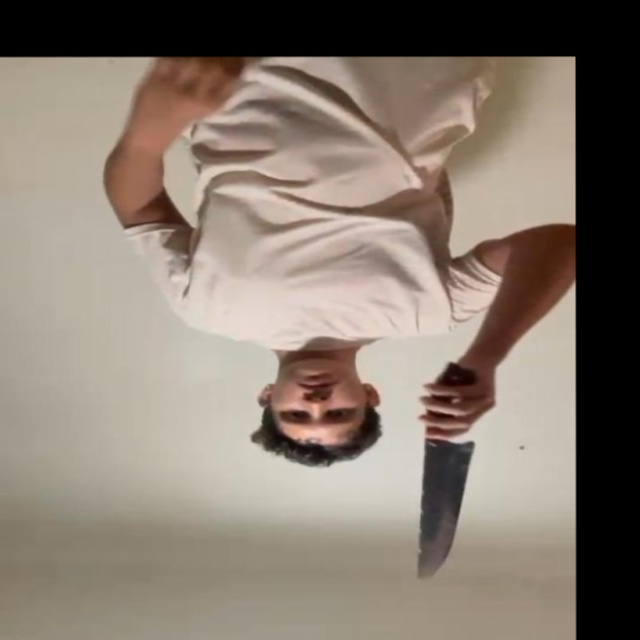Sharp-Object: (417, 439, 472, 580)
